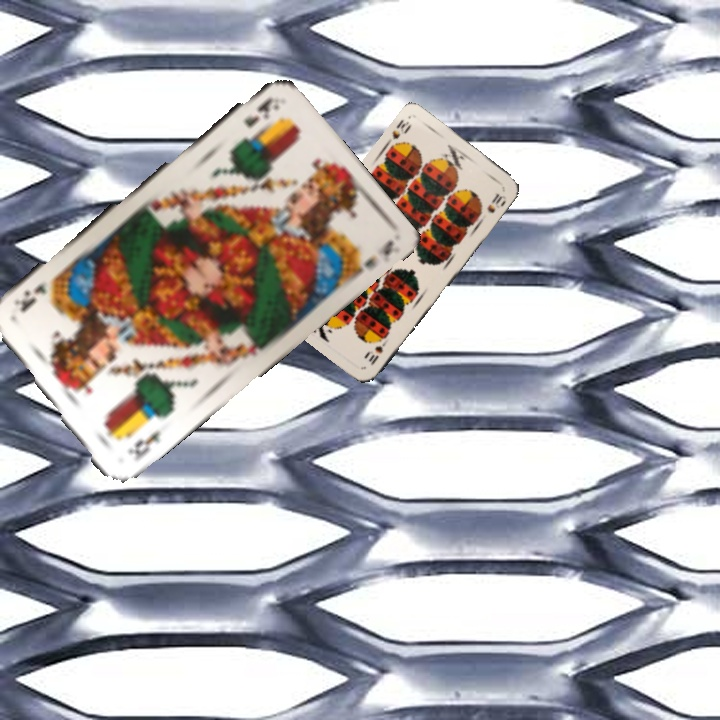EK: (123, 425, 164, 464), (240, 93, 275, 130)
S10: (382, 115, 414, 148), (364, 334, 391, 368)
